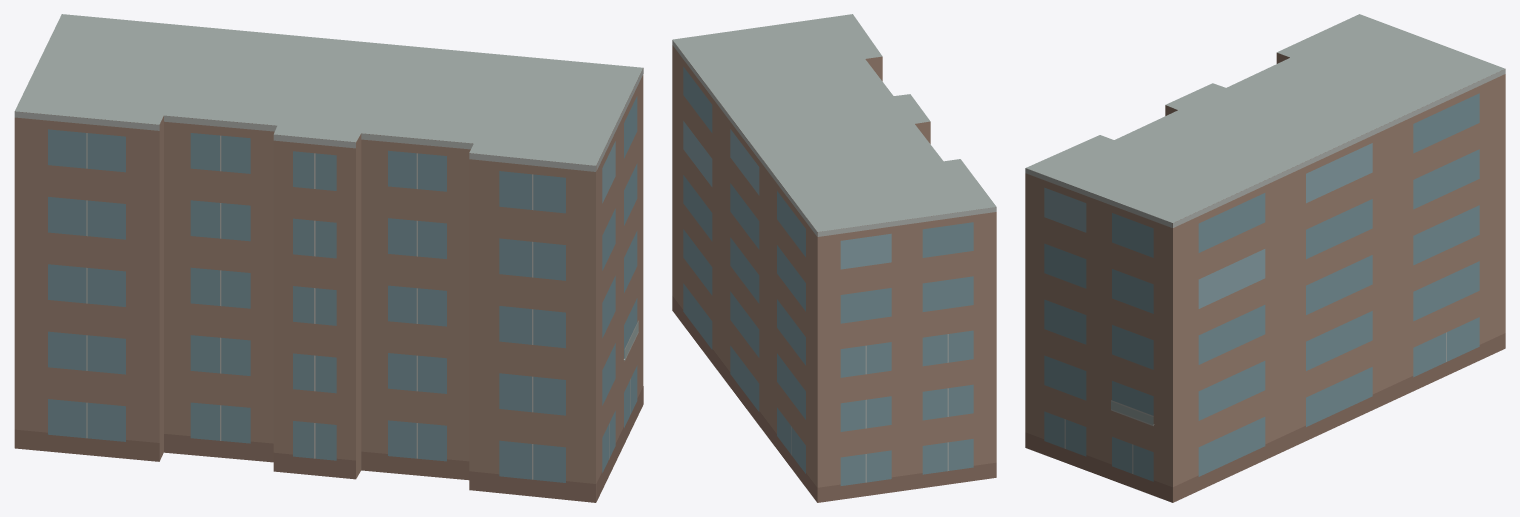
The model's file is survey-upis-32533816.glb.
3 views of the same model, side by side, from view 1: azimuth 30°, elevation 25°; view 2: azimuth 150°, elevation 25°; view 3: azimuth 270°, elevation 25° (orthographic). The views are drawn at different scales.
Parts seen in each view (by area): view 1: survey-upis-32533816.tmp; view 2: survey-upis-32533816.tmp; view 3: survey-upis-32533816.tmp.
Boxes of the visible parts, x1,y1,x2,y2 form: survey-upis-32533816.tmp: (14,14,643,502); survey-upis-32533816.tmp: (672,14,996,502); survey-upis-32533816.tmp: (1025,14,1505,502).
Bounding box in the file's own units: 21.33 × 13.3 × 20.69.
